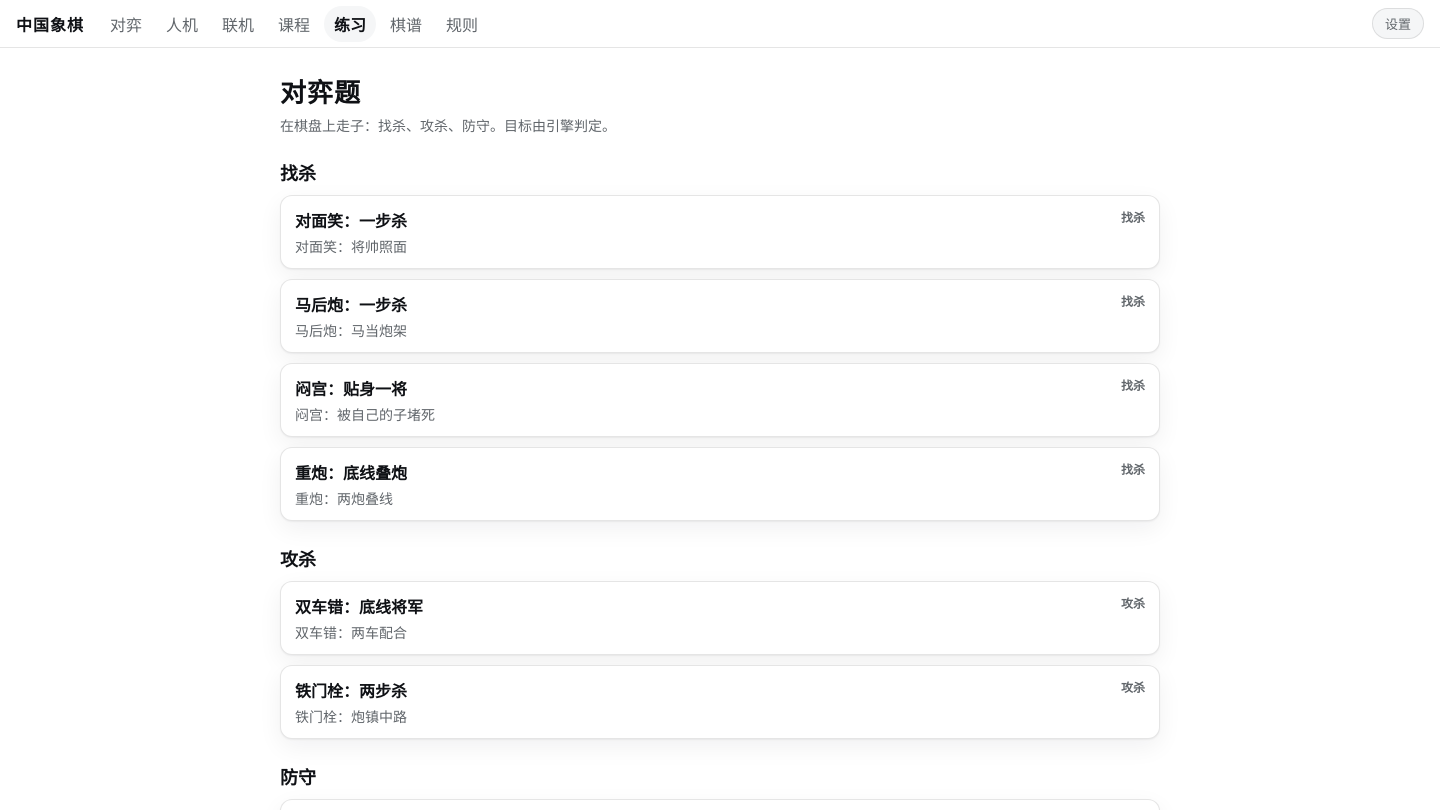
Test: F3-2 对弈题达成目标即通过 › 从题目列表进入，走进将死着过关
Check: the heading "对弈题" is shown, box x1=280 y1=77 x2=361 y2=108
Click the link "对面笑：一步杀 找杀" at (351, 221), box x1=295 y1=208 x2=1145 y2=232
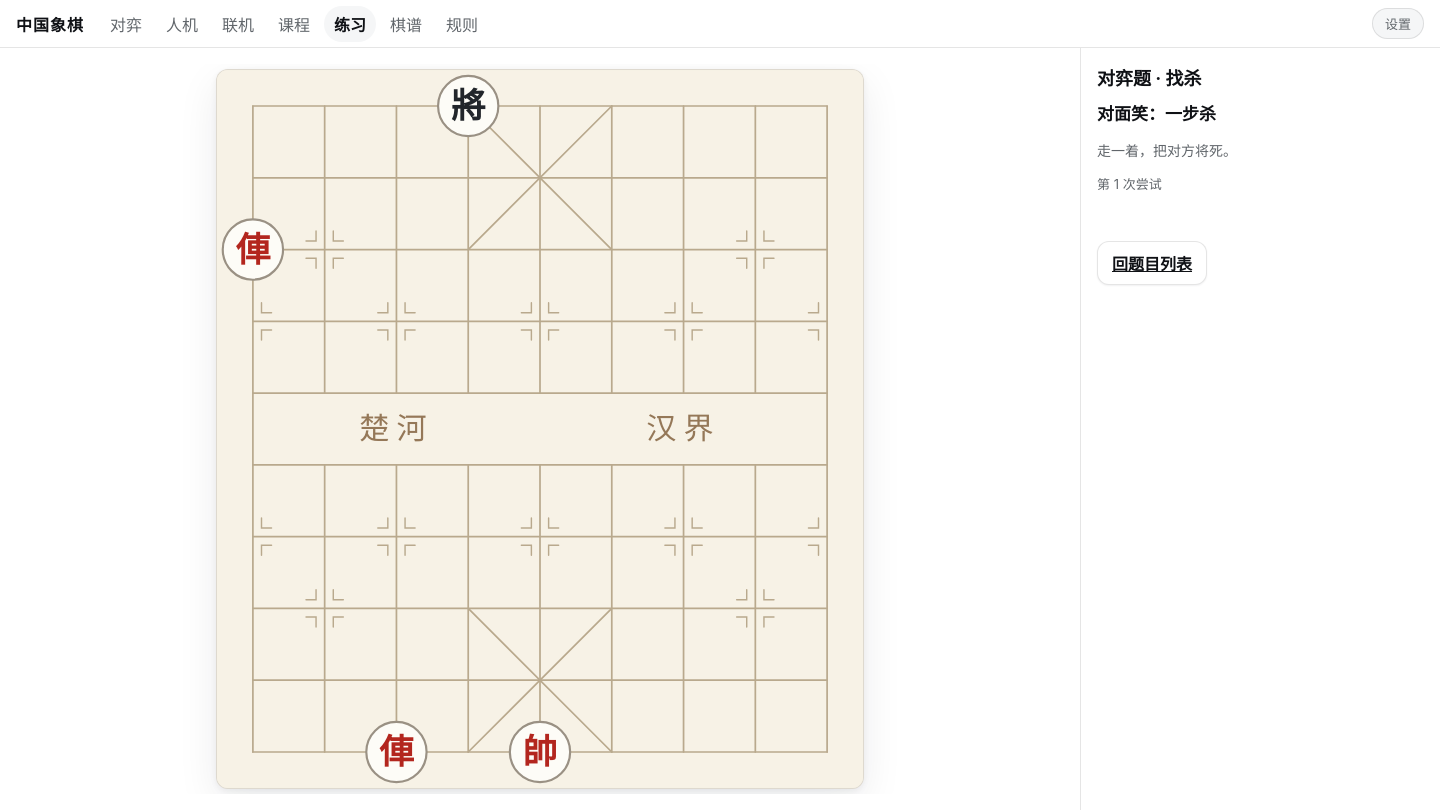
Check: the heading "对弈题 · 找杀" is shown, box x1=1097 y1=68 x2=1202 y2=89
Press the mouse on the icon with class "board" at (540, 429), box x1=216 y1=69 x2=864 y2=789
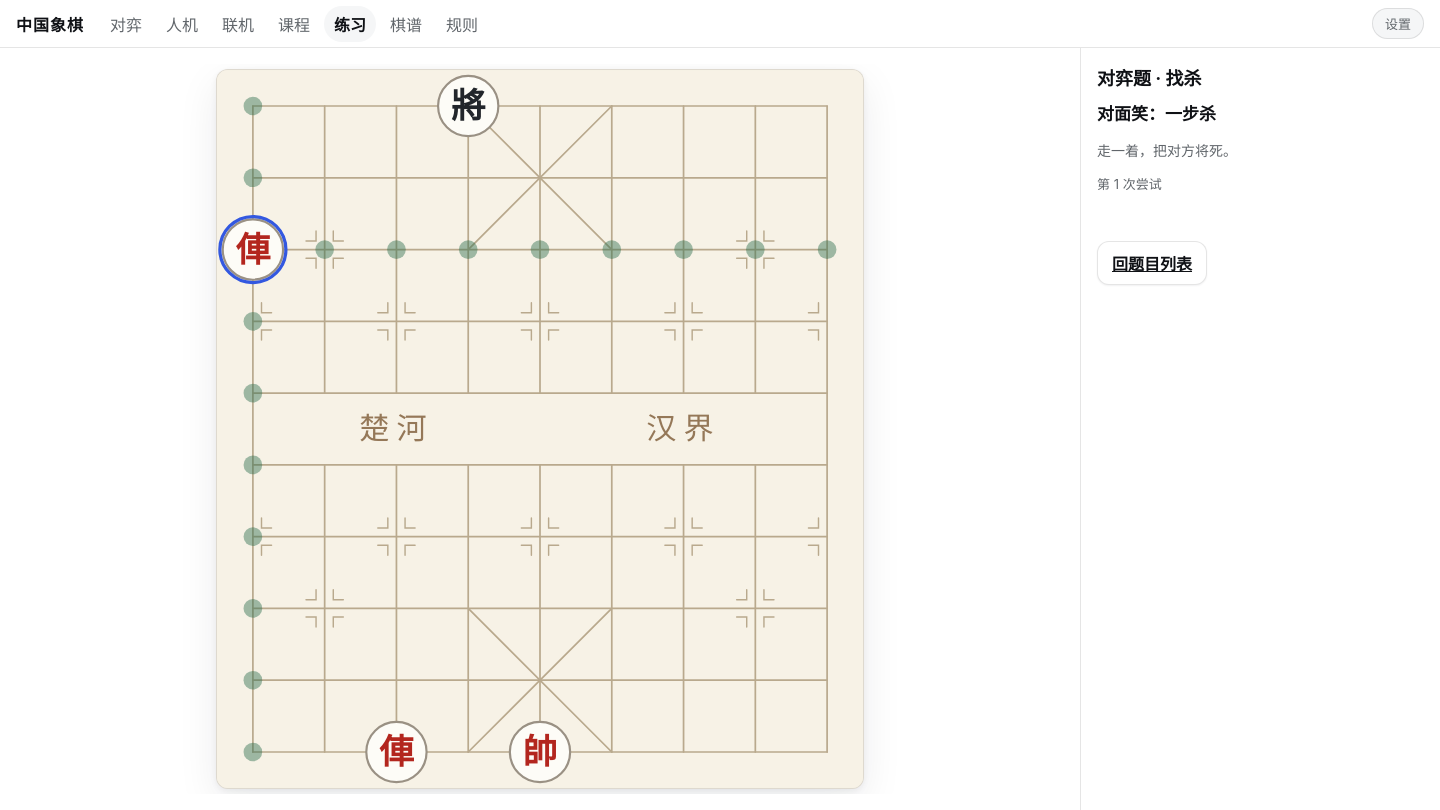
Press the mouse on the icon with class "board" at (540, 429), box x1=216 y1=69 x2=864 y2=789
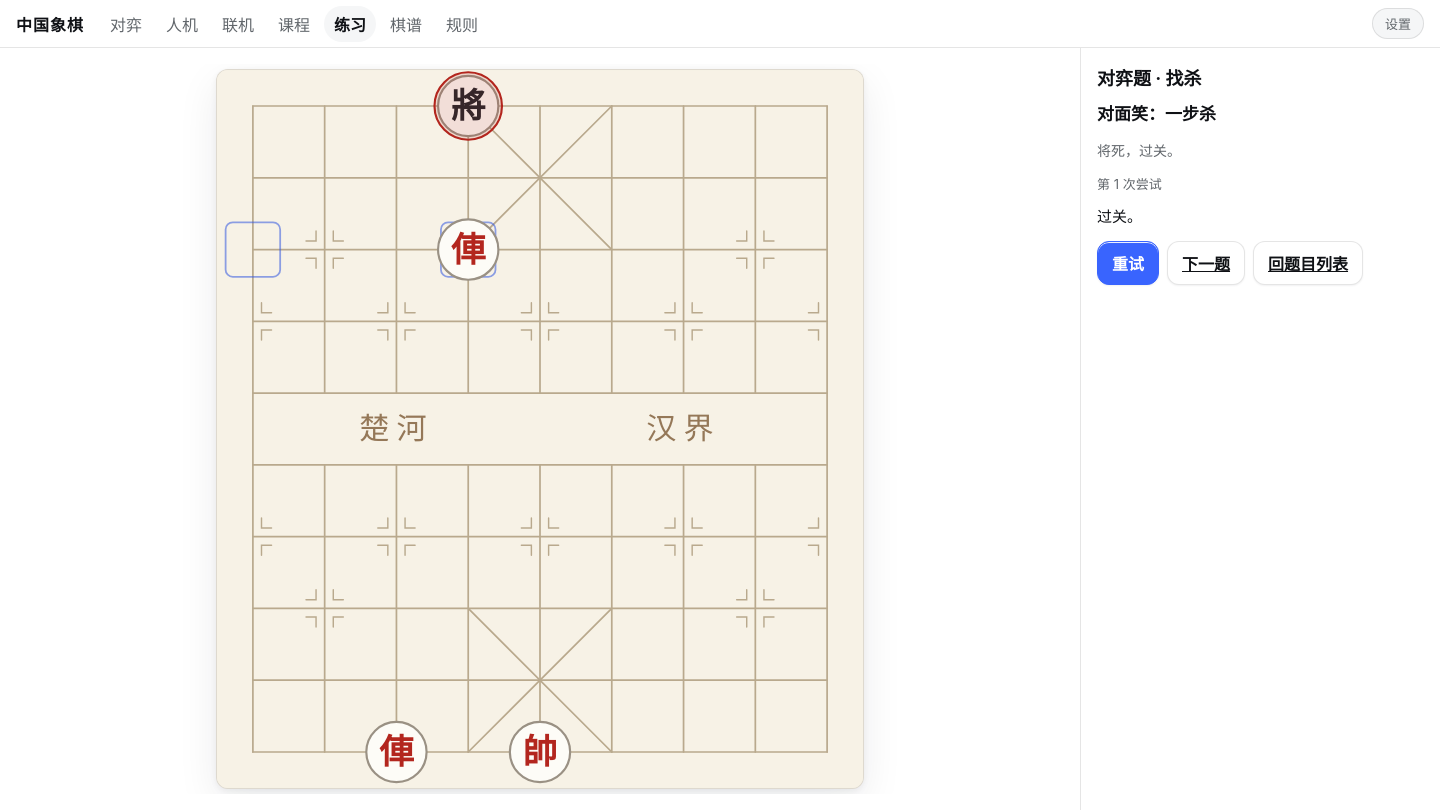
Check: the message shows "过关", box x1=1097 y1=207 x2=1142 y2=226
Check: the text "将死，过关。" is shown, box x1=1097 y1=142 x2=1181 y2=158
